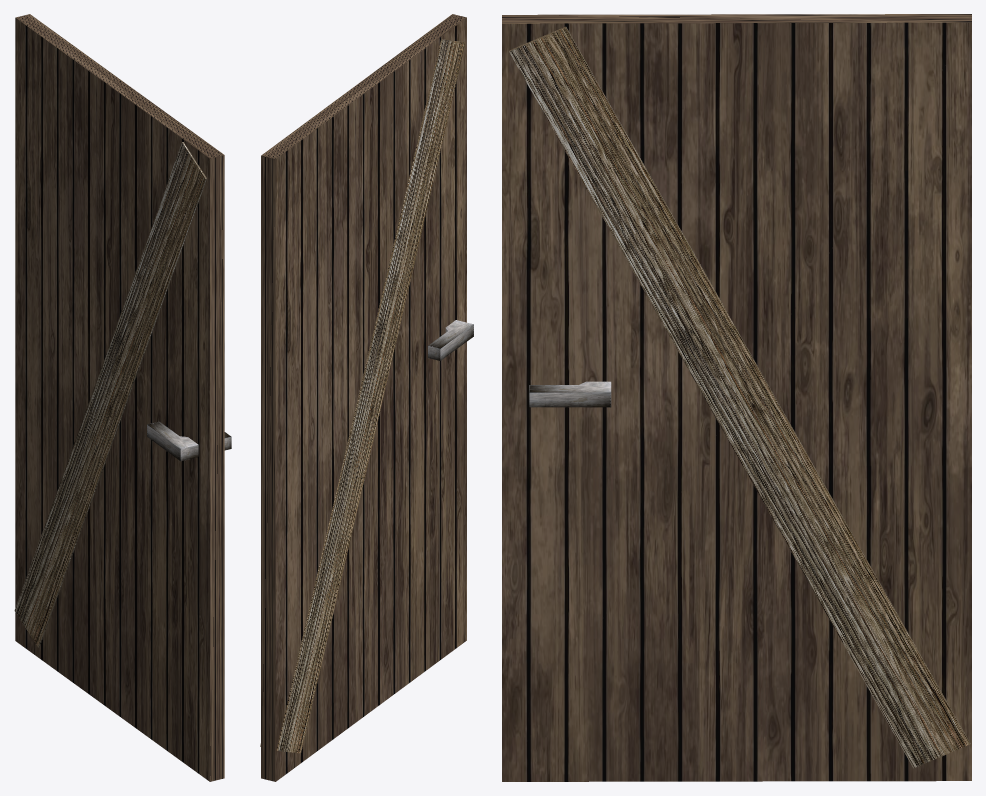
The model's file is wood door1.gltf.
3 renders of one model, left to right at view 1: azimuth 30°, elevation 25°; view 2: azimuth 150°, elevation 25°; view 3: azimuth 270°, elevation 25°, orthographic. The views are drawn at different scales.
Visible parts, largest first — view 1: kapi (×2), Küp; view 2: kapi (×2), Küp; view 3: kapi (×2), Küp.
Boxes of the visible parts, x1,y1,x2,y2 form: kapi (×2): (14, 14, 224, 781); Küp: (147, 421, 198, 461); kapi (×2): (261, 14, 466, 781); Küp: (428, 320, 473, 360); kapi (×2): (502, 14, 971, 781); Küp: (529, 381, 611, 407).
Size of the model in its own units: 0.1576 by 1.85 by 1.04.
Materials: 5 (5 with a texture image).
